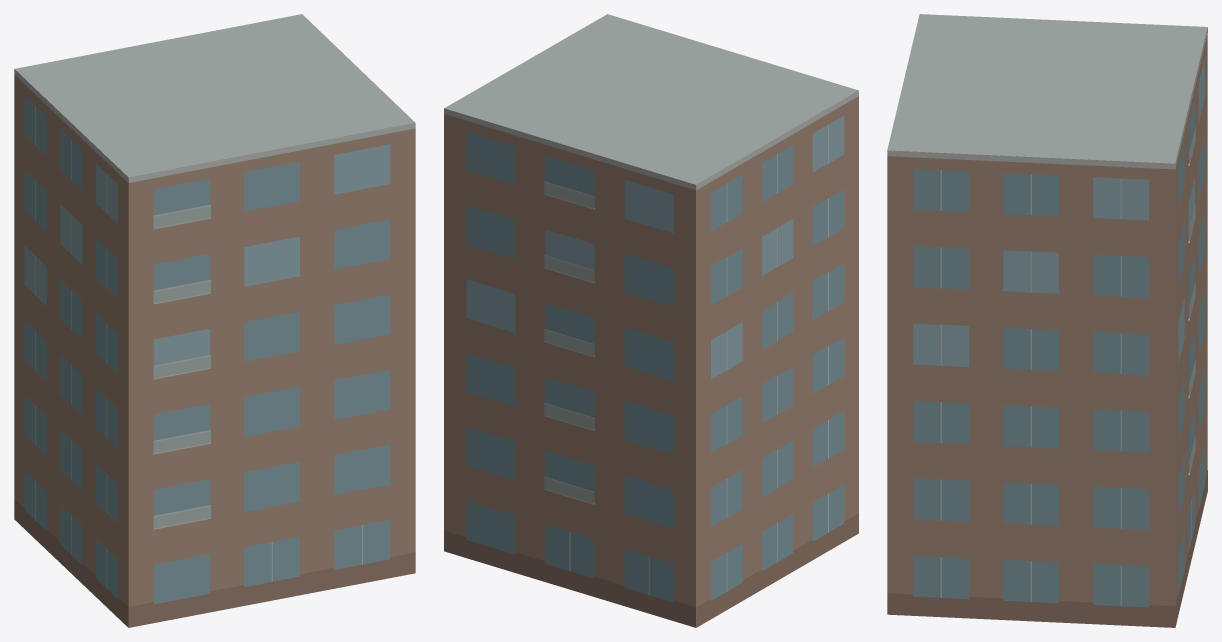
Rendered from survey-upis-32993959.glb.
The picture shows the model from 3 angles, left to right: view 1: azimuth 30°, elevation 25°; view 2: azimuth 150°, elevation 25°; view 3: azimuth 270°, elevation 25°; orthographic projection. The views are drawn at different scales.
Parts seen in each view (by area): view 1: survey-upis-32993959.tmp; view 2: survey-upis-32993959.tmp; view 3: survey-upis-32993959.tmp.
Boxes of the visible parts, x1,y1,x2,y2 form: survey-upis-32993959.tmp: (14, 14, 415, 627); survey-upis-32993959.tmp: (444, 14, 858, 627); survey-upis-32993959.tmp: (887, 14, 1207, 627).
Size of the model in its own units: 13.5 by 19.5 by 12.22.
